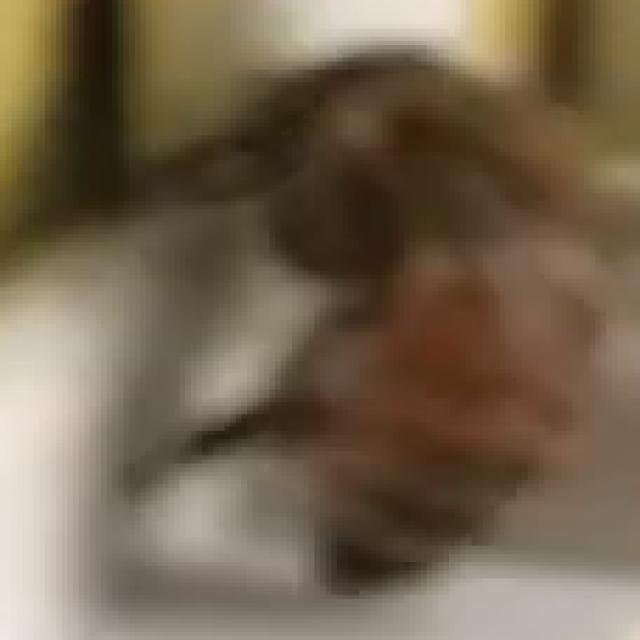honeybee: (116, 58, 640, 585)
